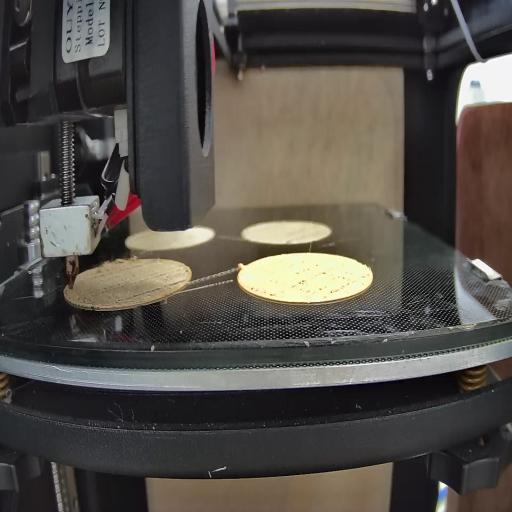under_extrusion: (292, 264, 368, 298), (123, 275, 190, 303), (66, 288, 100, 312), (245, 276, 278, 300)
